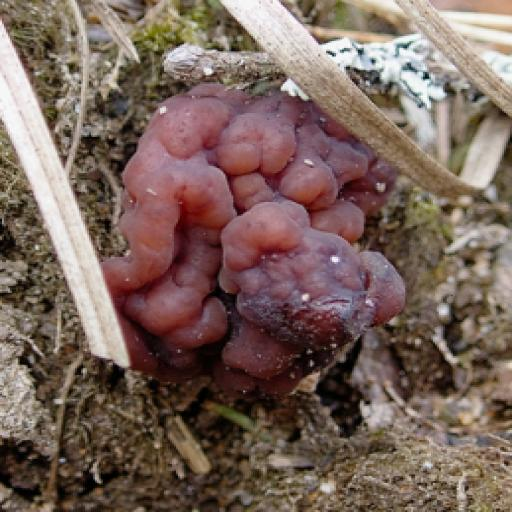False Morel: (123, 94, 407, 386)
